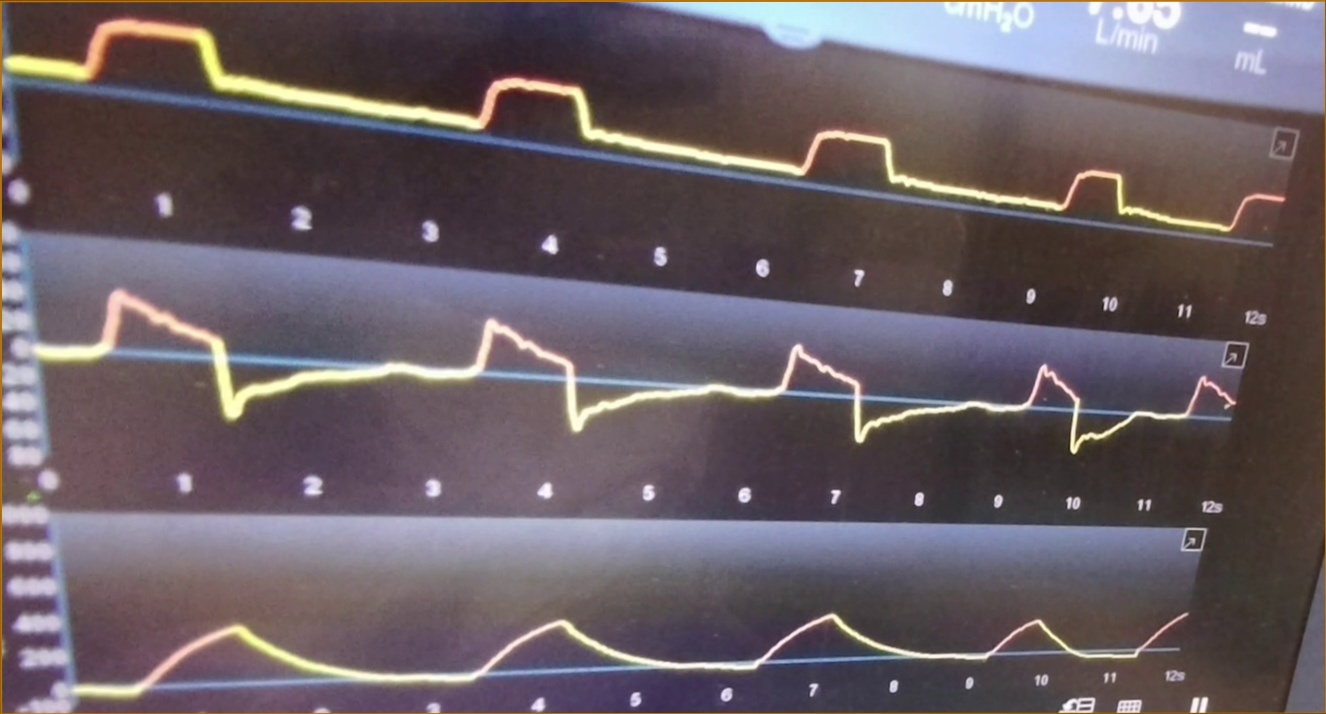Accumulation Flow: (44, 291, 1239, 455)
Volume: (79, 569, 1191, 700)
